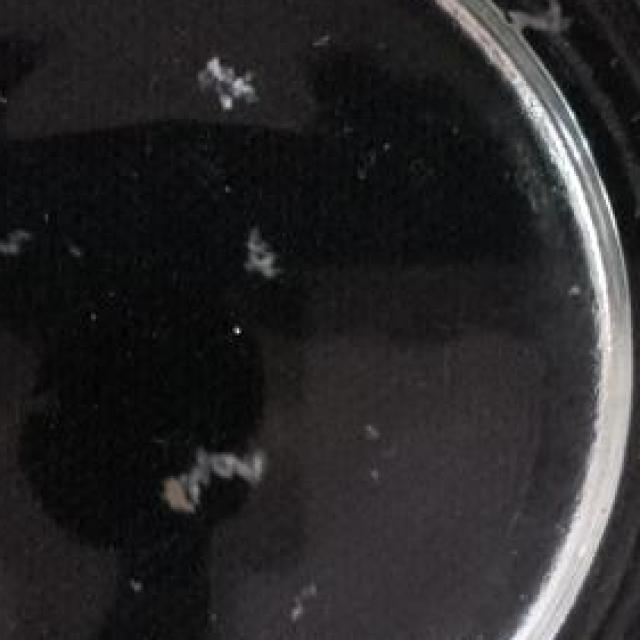Microplastic: (160, 442, 280, 512), (184, 50, 260, 131), (506, 0, 580, 55), (244, 214, 292, 278), (283, 580, 321, 630), (0, 219, 27, 257), (0, 88, 23, 117)
